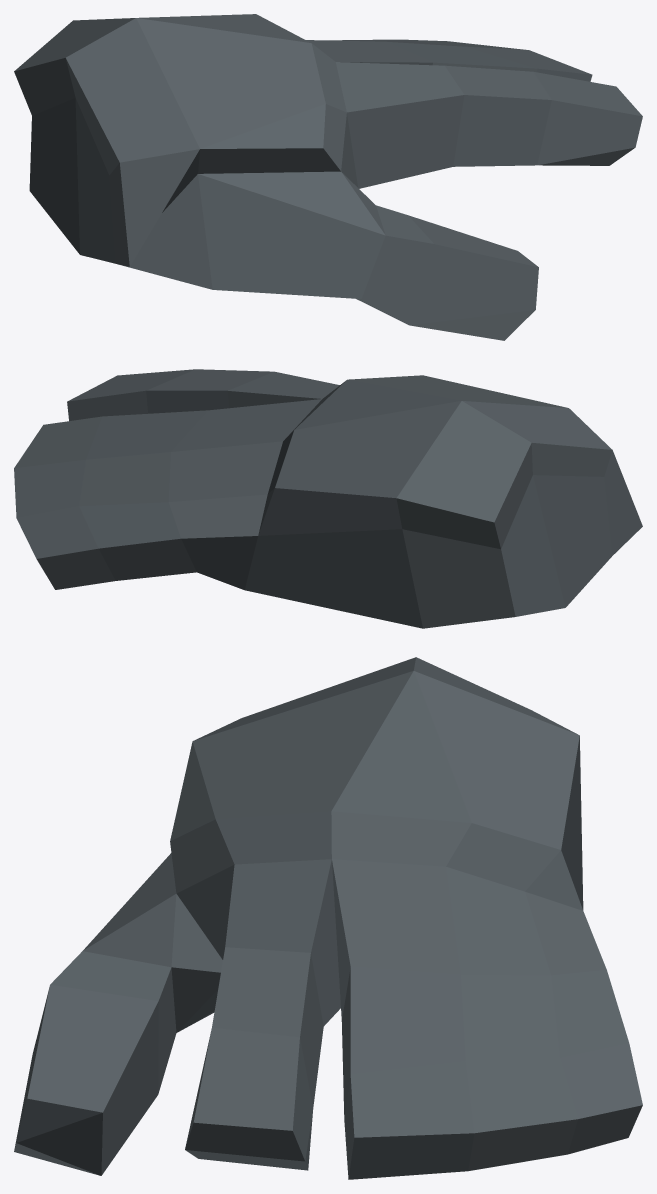
File: Chr_HandLeft_Female_06_Static.fbx
3 renders of one model, top to bottom at view 1: azimuth 30°, elevation 25°; view 2: azimuth 150°, elevation 25°; view 3: azimuth 270°, elevation 25°, orthographic. The views are drawn at different scales.
Visible parts, largest first — view 1: Chr_HandLeft_Female_06_Static; view 2: Chr_HandLeft_Female_06_Static; view 3: Chr_HandLeft_Female_06_Static.
Boxes of the visible parts, x1,y1,x2,y2 form: Chr_HandLeft_Female_06_Static: (14,14,642,340); Chr_HandLeft_Female_06_Static: (14,369,642,628); Chr_HandLeft_Female_06_Static: (14,657,642,1179).
Bounding box in the file's own units: 0.2371 × 0.1202 × 0.188.
